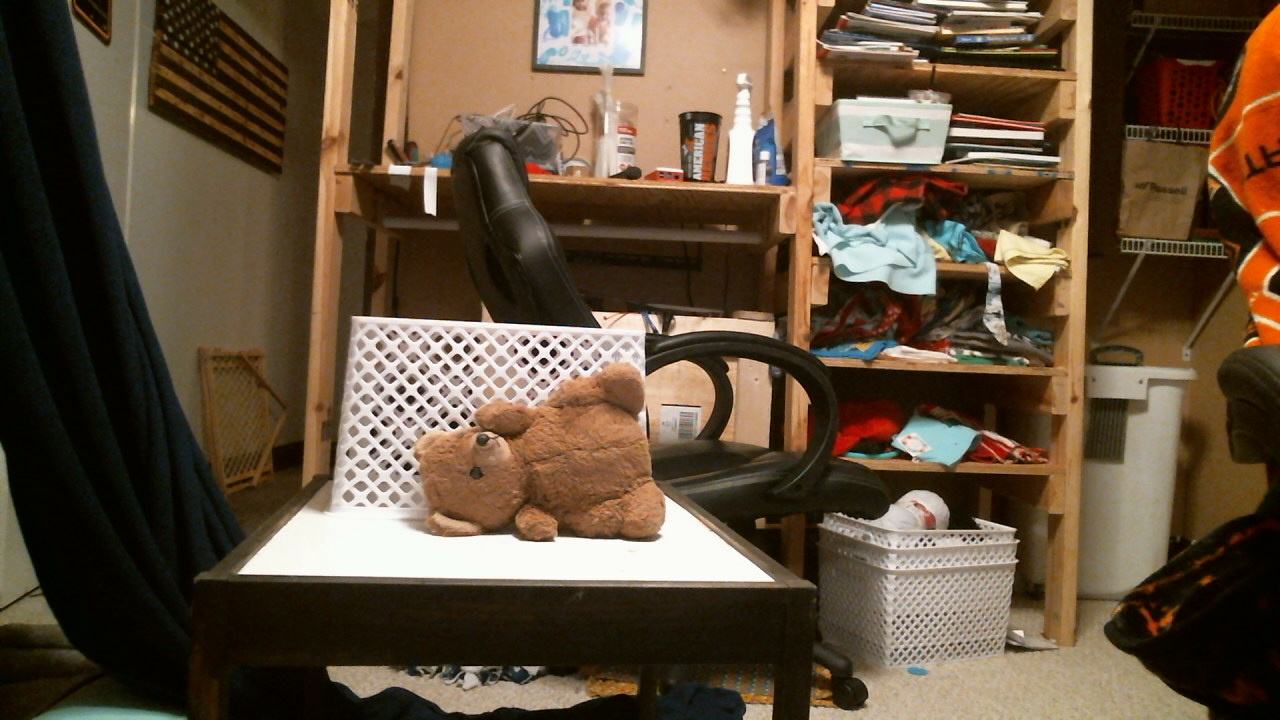Little_Mister_Bear: (450, 436, 539, 492)
